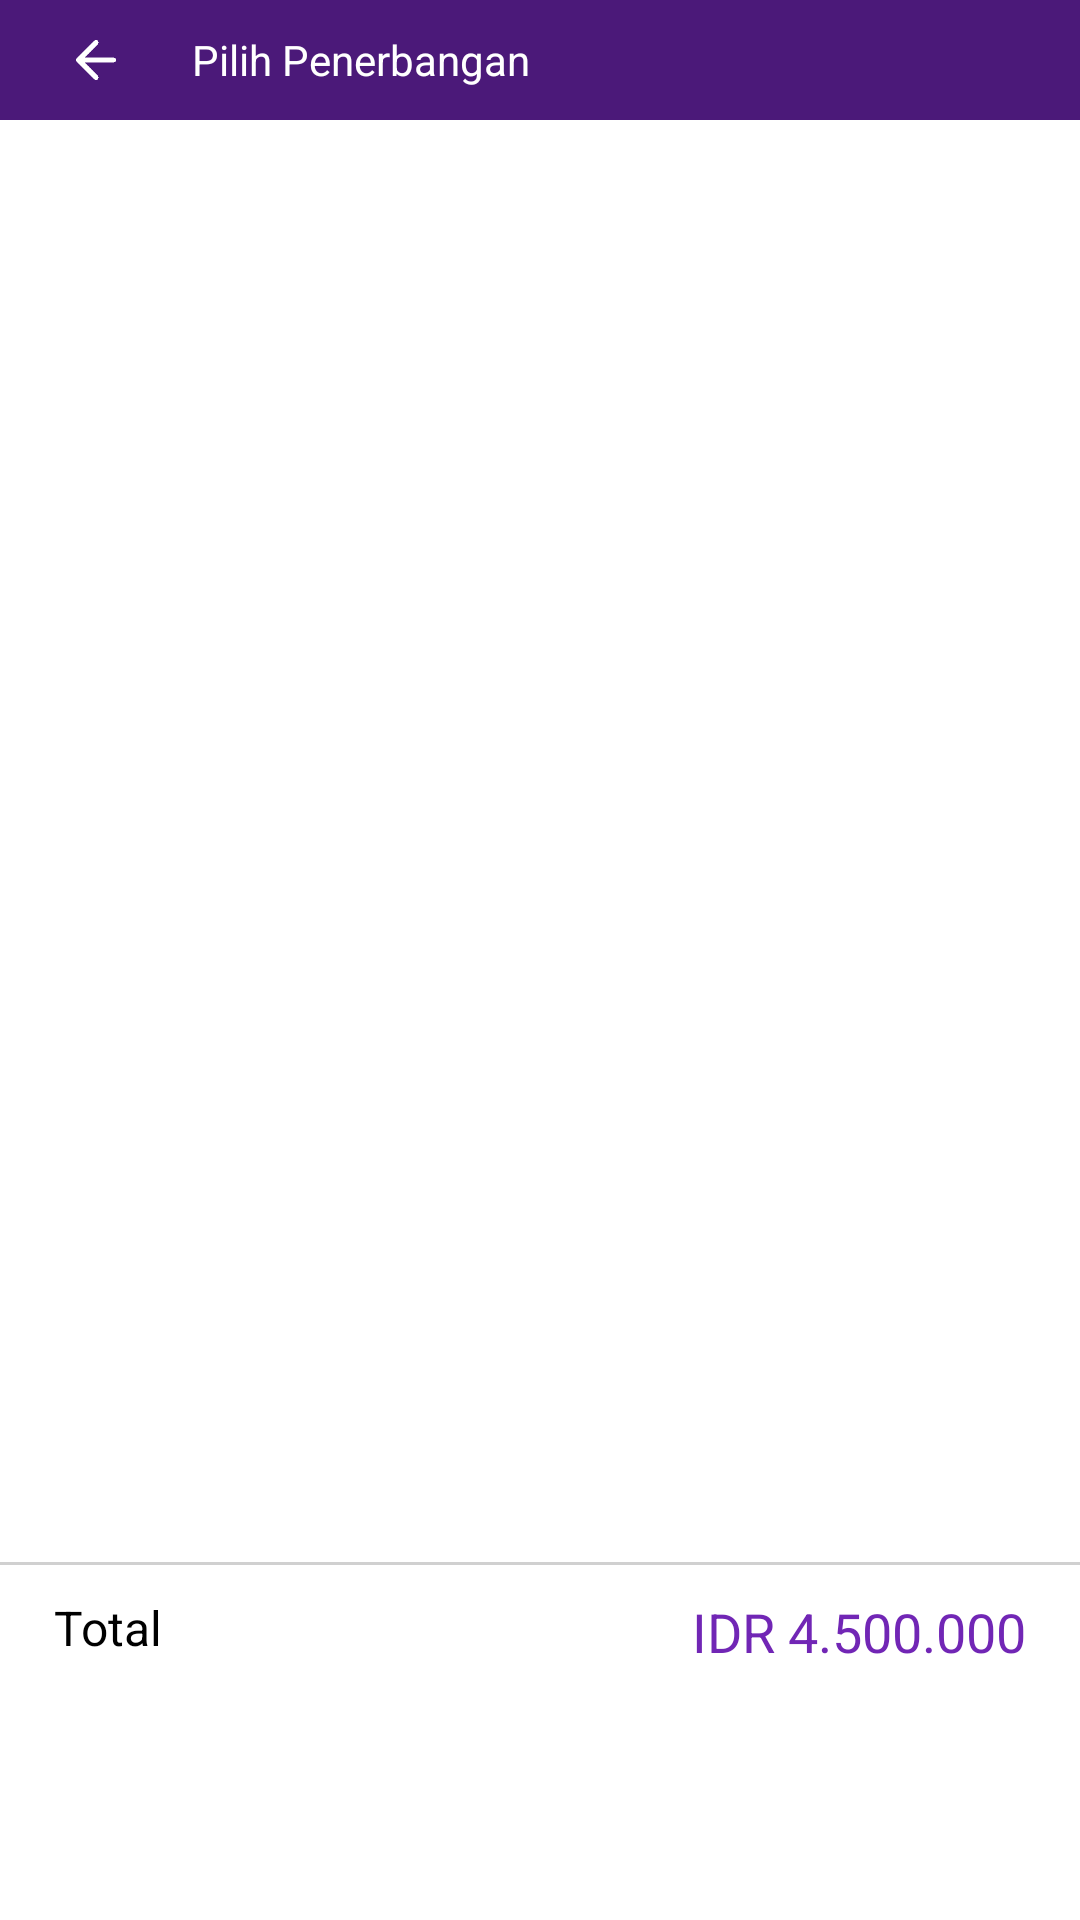

Screen size 1080 x 1920. Icon name, then its center in pixels as point (x, y):
back: point (96, 60)
